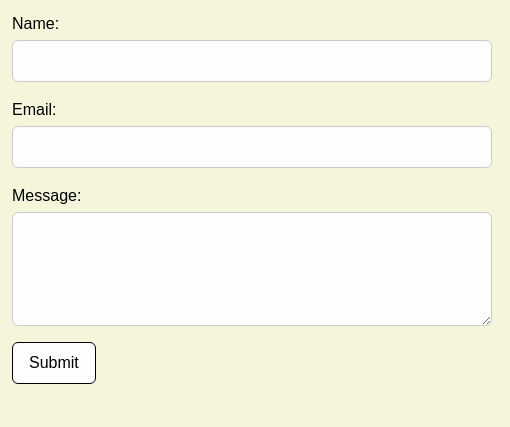
it: ContactForm › shows an email error and no confirmation for an invalid email
Type "Jane Doe" into the field labelled "Name:" at (252,61), box [12,40,492,82]
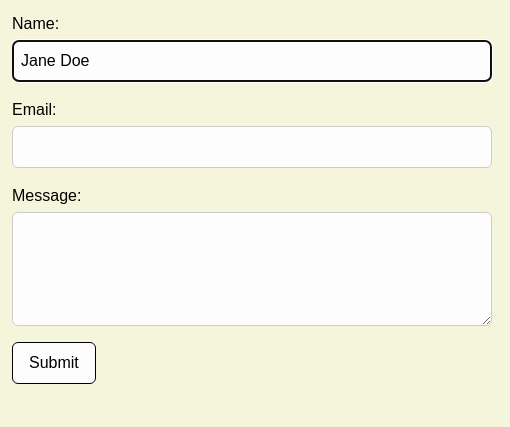
Type "not-an-email" into the field labelled "Email:" at (252,147), box [12,126,492,168]
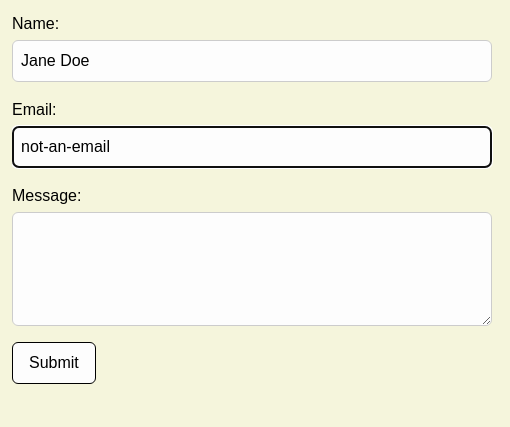
Type "Hello!" into the text box labelled "Message:" at (252,269), box [12,212,492,326]
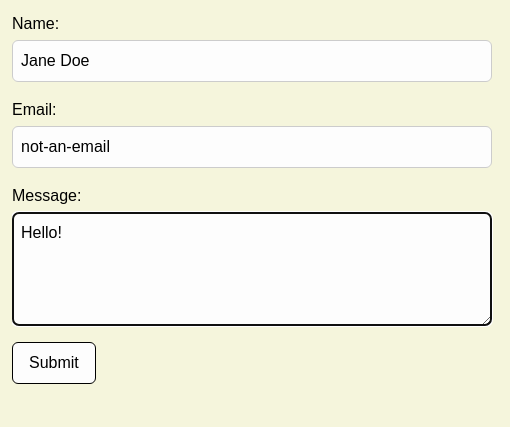
Click the button "Submit" at (54,363), box [12,342,96,384]
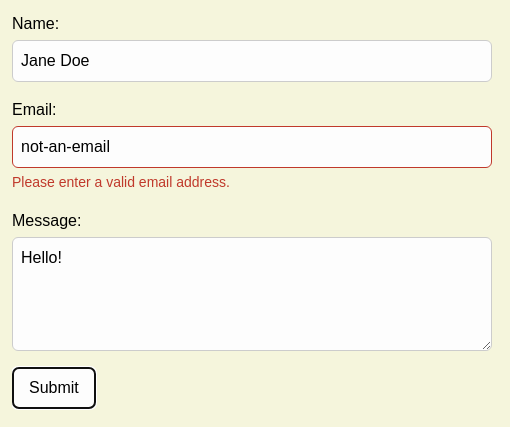
Expected: the text "Please enter a valid email address." is shown, [12,174,230,190]
